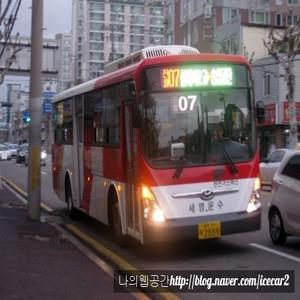07bus: (45, 54, 265, 238)
backdoor: (68, 101, 92, 211)
frontdoor: (118, 83, 148, 244)
